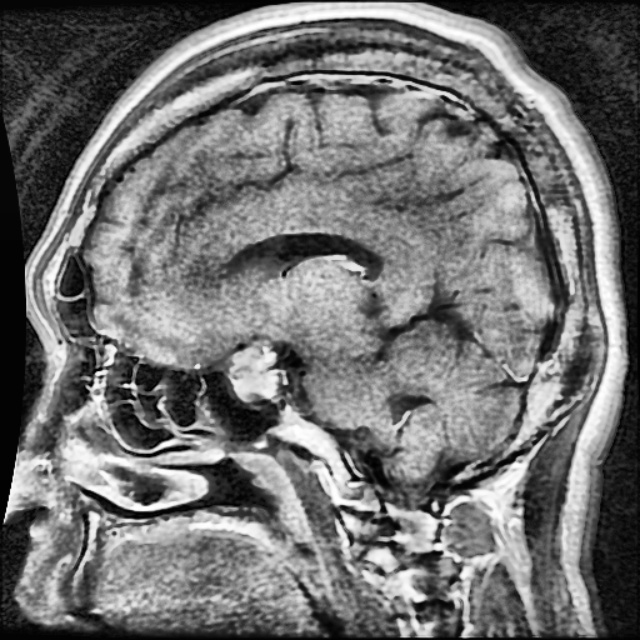Pituitary: (228, 338, 282, 403)
